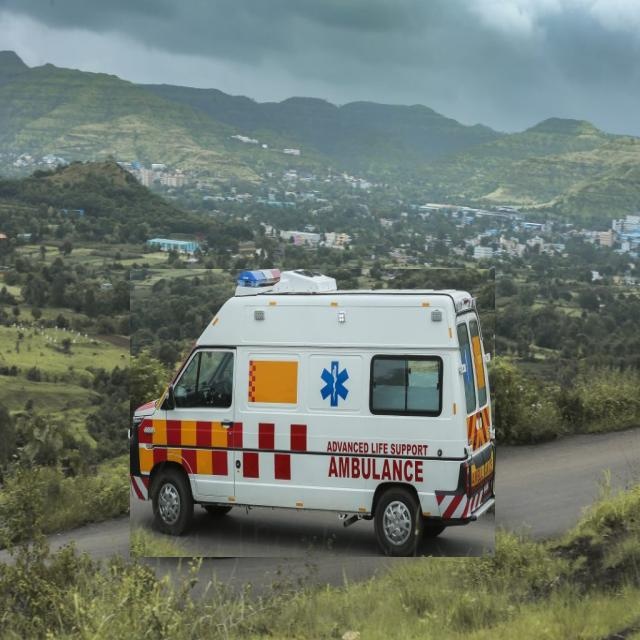emergency: (130, 270, 495, 557)
